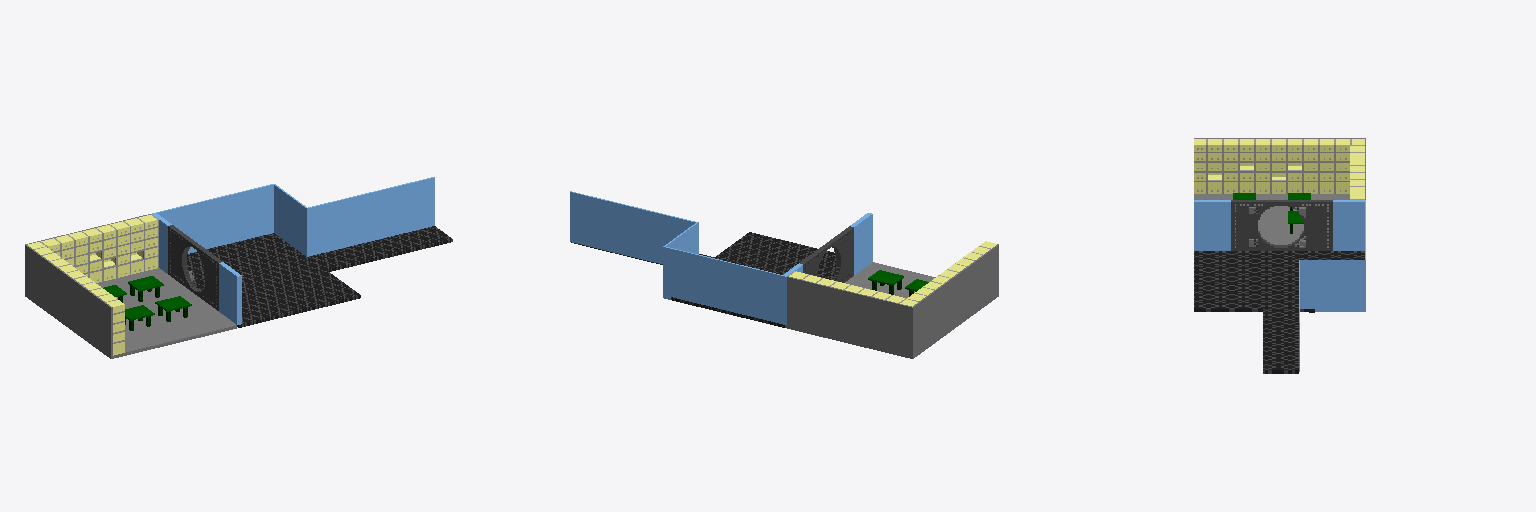
The picture shows the model from 3 angles: view 1: azimuth 30°, elevation 25°; view 2: azimuth 150°, elevation 25°; view 3: azimuth 270°, elevation 25°; orthographic projection.
Parts seen in each view (by area): view 1: object 1; view 2: object 1; view 3: object 1.
Part boxes in pixels (left/top/right/bottom): object 1: left=25, top=177, right=452, bottom=358; object 1: left=570, top=191, right=998, bottom=358; object 1: left=1194, top=138, right=1365, bottom=373.
Size of the model in its own units: 24.4 by 3.2 by 9.7.
Materials: 1 (1 with a texture image).